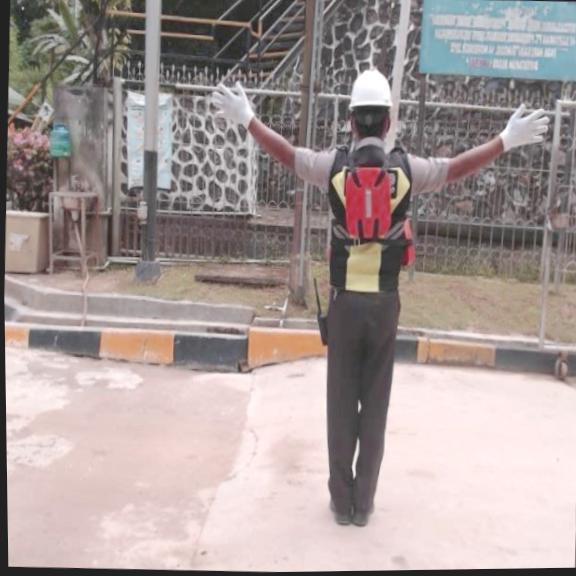safety_vest: (340, 164, 397, 245)
